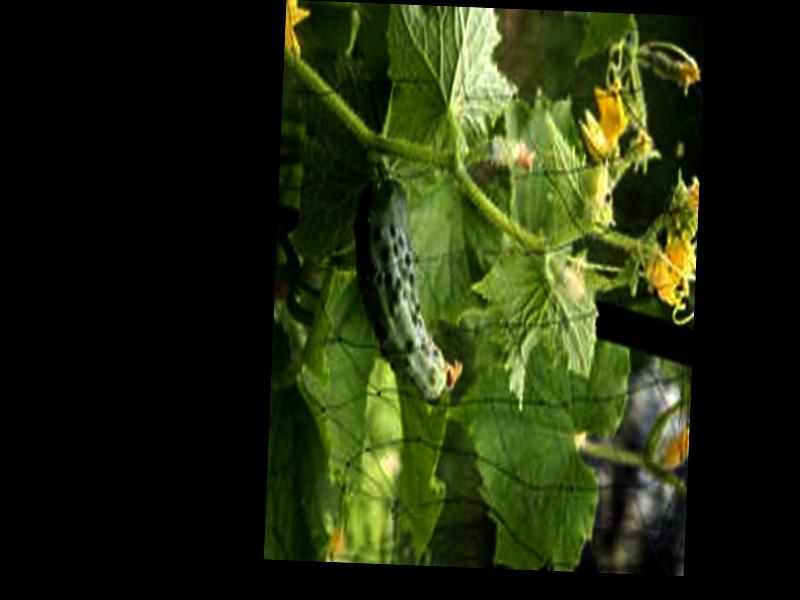Cucumber: (349, 173, 471, 404)
